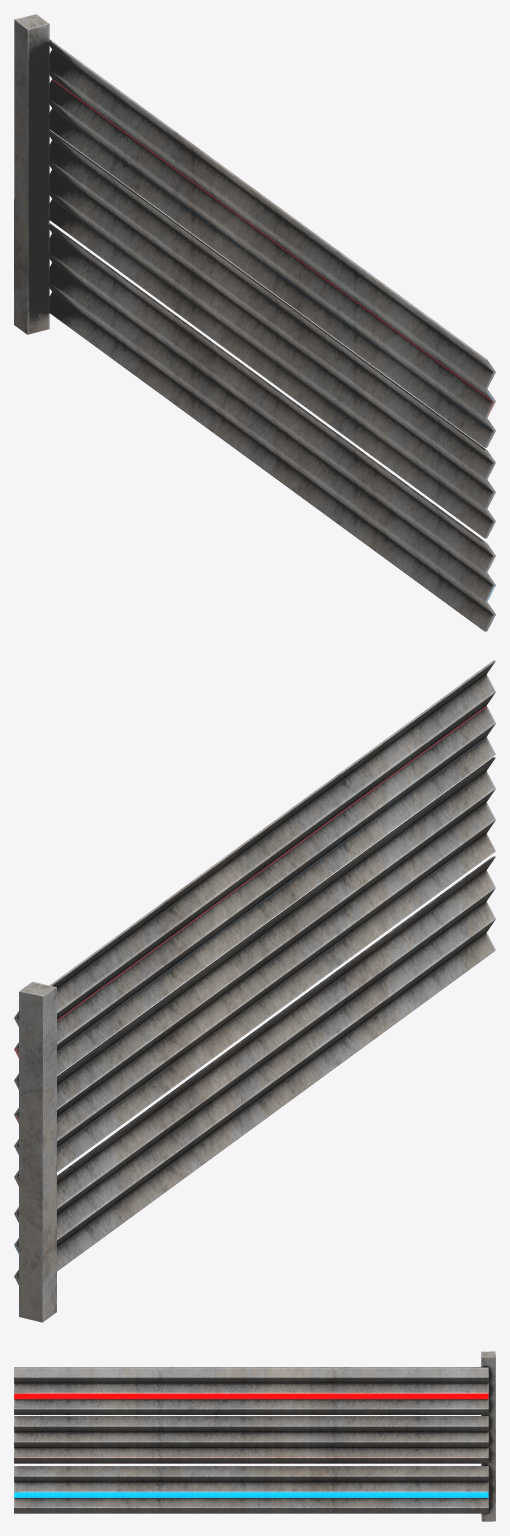
File: SM_FenceSmall.fbx
The picture shows the model from 3 angles, top to bottom: view 1: azimuth 30°, elevation 25°; view 2: azimuth 150°, elevation 25°; view 3: azimuth 270°, elevation 25°; orthographic projection. The views are drawn at different scales.
Visible parts, largest first — view 1: SM_FenceSmall_LOD0; view 2: SM_FenceSmall_LOD0; view 3: SM_FenceSmall_LOD0.
Boxes of the visible parts, x1=… form: SM_FenceSmall_LOD0: x1=14, y1=14, x2=495, y2=631; SM_FenceSmall_LOD0: x1=14, y1=660, x2=495, y2=1322; SM_FenceSmall_LOD0: x1=14, y1=1351, x2=495, y2=1521.
Bounding box in the file's own units: 28.72 × 664 × 250.
Materials: 1 (1 with a texture image).
